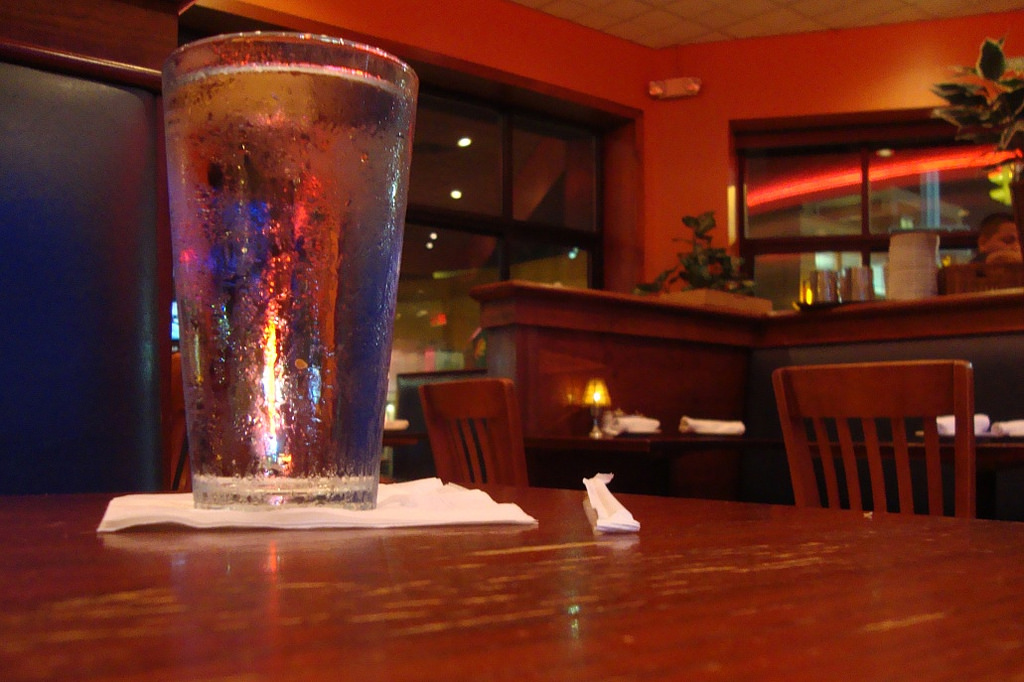glass of water: (161, 38, 418, 515)
